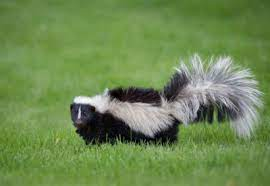skunk: (69, 57, 254, 145)
